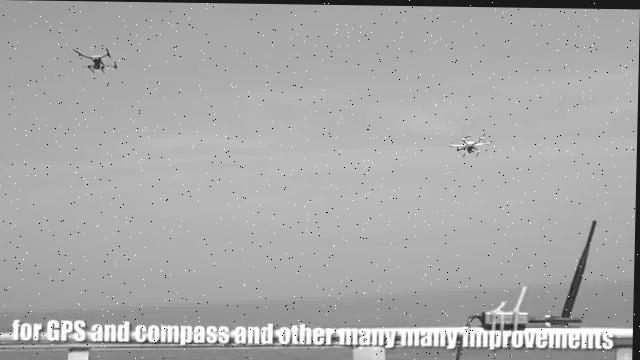drone: (70, 43, 120, 73), (445, 130, 492, 157)
